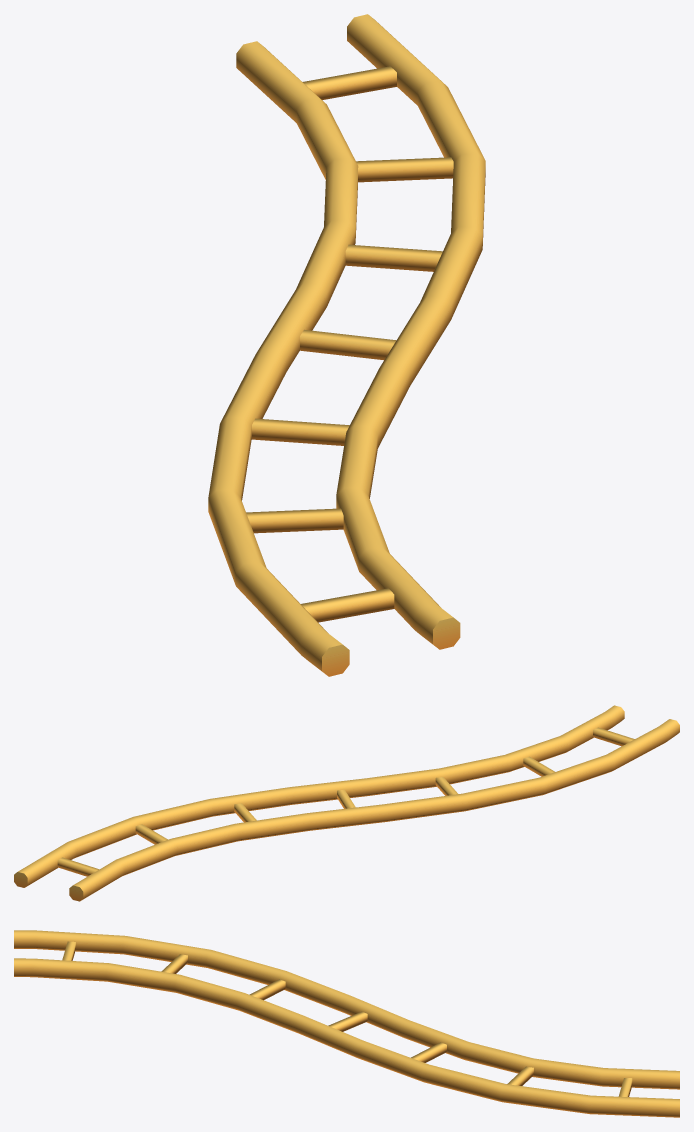
The model's file is coaster-mouse-curve.glb.
3 renders of one model, top to bottom at view 1: azimuth 30°, elevation 25°; view 2: azimuth 150°, elevation 25°; view 3: azimuth 270°, elevation 25°, orthographic. The views are drawn at different scales.
Visible parts, largest first — view 1: coaster-mouse-curve; view 2: coaster-mouse-curve; view 3: coaster-mouse-curve.
Part boxes in pixels (x1,y1,x2,y2): coaster-mouse-curve: (208,14,485,676); coaster-mouse-curve: (14,705,679,901); coaster-mouse-curve: (14,930,679,1117).
Bounding box in the file's own units: 2.5 × 0.1001 × 4.
1 material, 1 textured.
